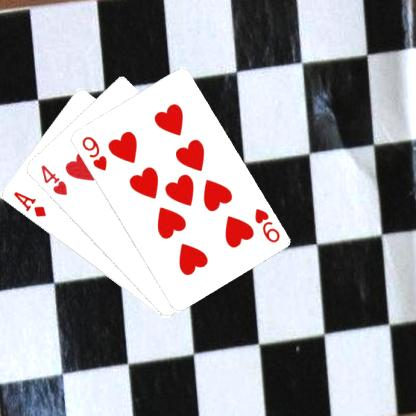4H: (38, 162, 68, 197)
9H: (78, 134, 108, 172), (251, 206, 281, 244)
AD: (10, 189, 47, 219)
